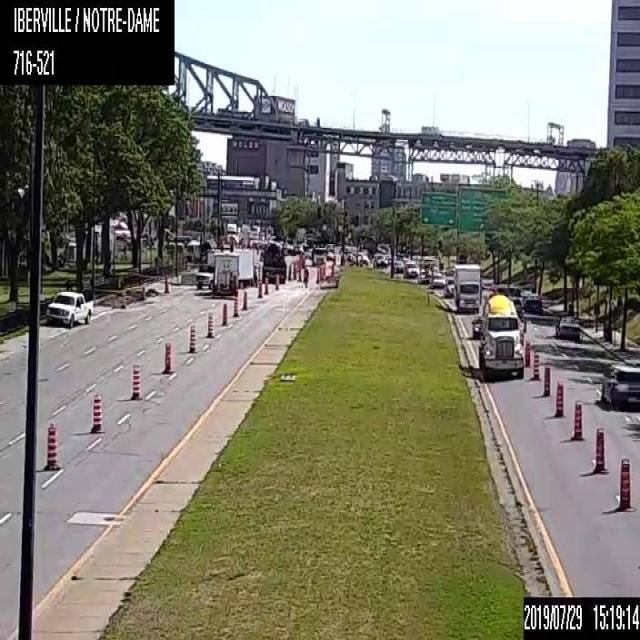construction: (614, 456, 631, 512), (42, 423, 60, 469), (592, 424, 605, 475), (89, 392, 102, 432), (126, 364, 140, 400), (572, 398, 584, 438), (161, 339, 174, 373), (554, 380, 564, 416), (186, 323, 197, 353), (542, 364, 550, 395), (205, 309, 213, 336), (532, 350, 538, 380), (221, 302, 228, 326), (524, 341, 530, 366), (233, 297, 239, 316), (162, 276, 169, 292), (242, 287, 247, 309), (257, 279, 262, 297), (264, 276, 268, 293), (141, 286, 146, 298), (315, 268, 319, 282), (275, 274, 278, 289), (319, 266, 322, 278), (331, 262, 333, 276), (323, 264, 325, 278)
vehicle: (479, 293, 523, 377), (44, 291, 94, 328), (599, 363, 639, 409), (211, 250, 239, 297), (453, 263, 479, 313), (260, 242, 286, 283), (232, 248, 253, 286), (554, 312, 582, 337), (194, 262, 213, 289), (524, 292, 541, 311), (403, 260, 419, 276), (470, 314, 480, 338), (417, 268, 431, 283), (374, 252, 387, 267), (443, 277, 453, 296), (431, 272, 443, 287)
